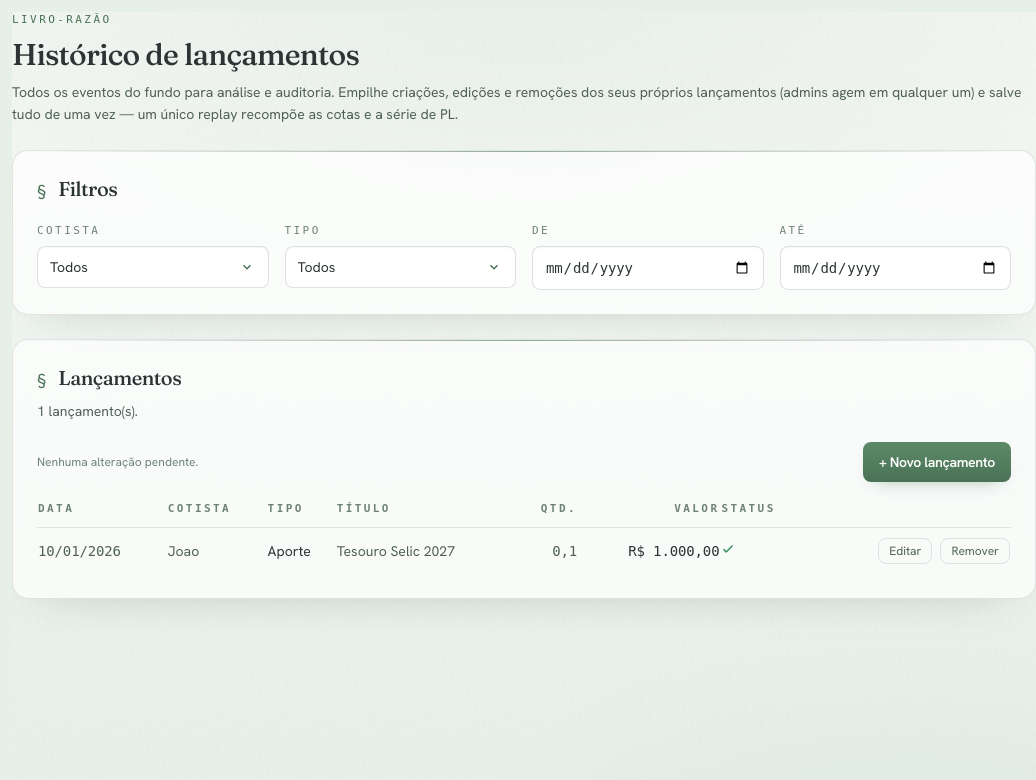
Test: HistoricoView — rascunho em batch › mantém o rascunho quando o save falha
Expected: the text "Tesouro Selic 2027" is shown, x1=336 y1=528 x2=520 y2=574
Click the button "Remover": (975, 551) x1=940 y1=538 x2=1010 y2=564
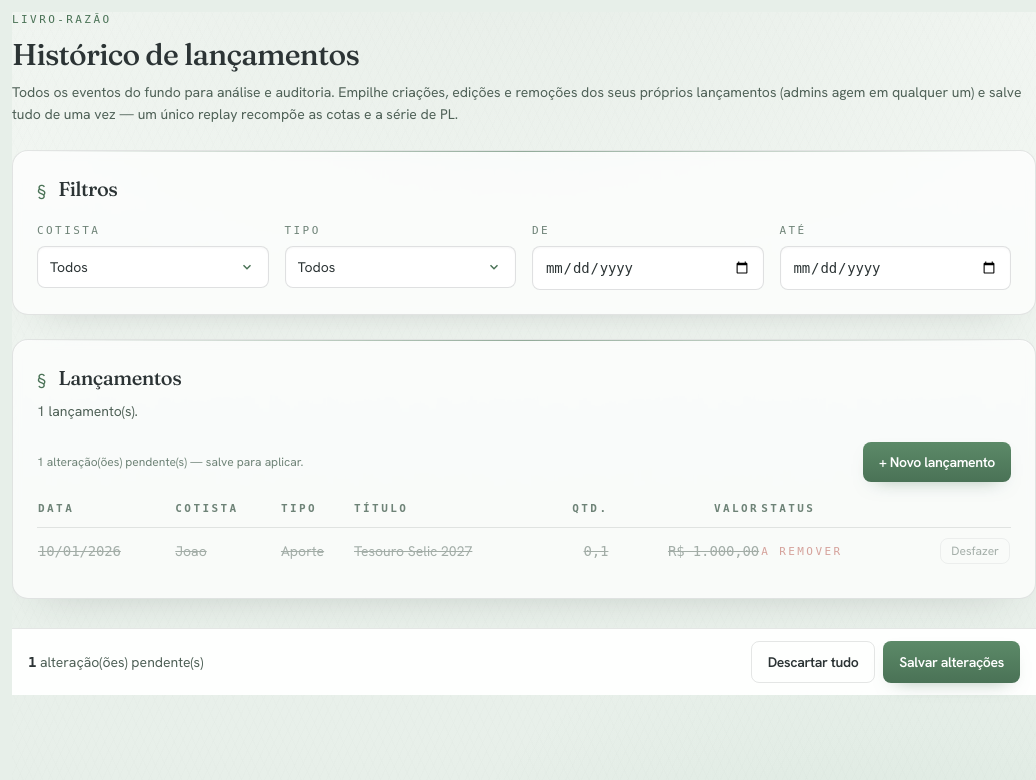
Click the button "Salvar alterações": (952, 662) x1=883 y1=641 x2=1020 y2=683
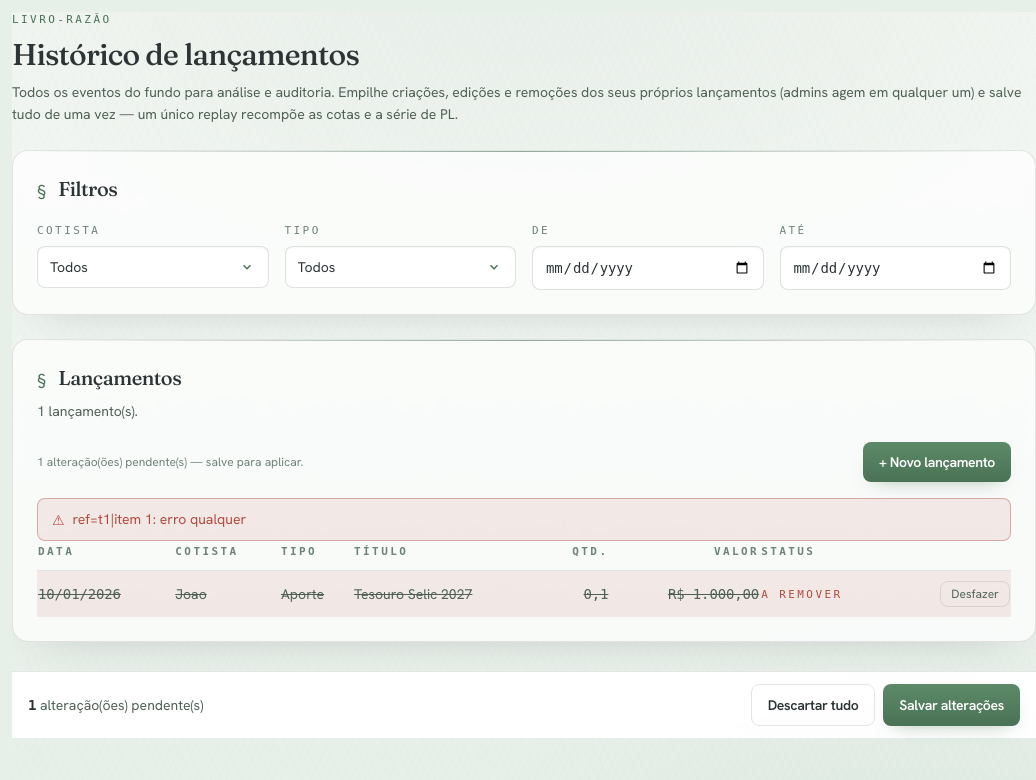
Expected: the button "Salvar alterações" is shown, x1=883 y1=684 x2=1020 y2=726
Expected: the text "ref=t1|item 1: erro qualquer" is shown, x1=73 y1=509 x2=246 y2=529
